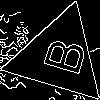B: (34, 31, 88, 78)
